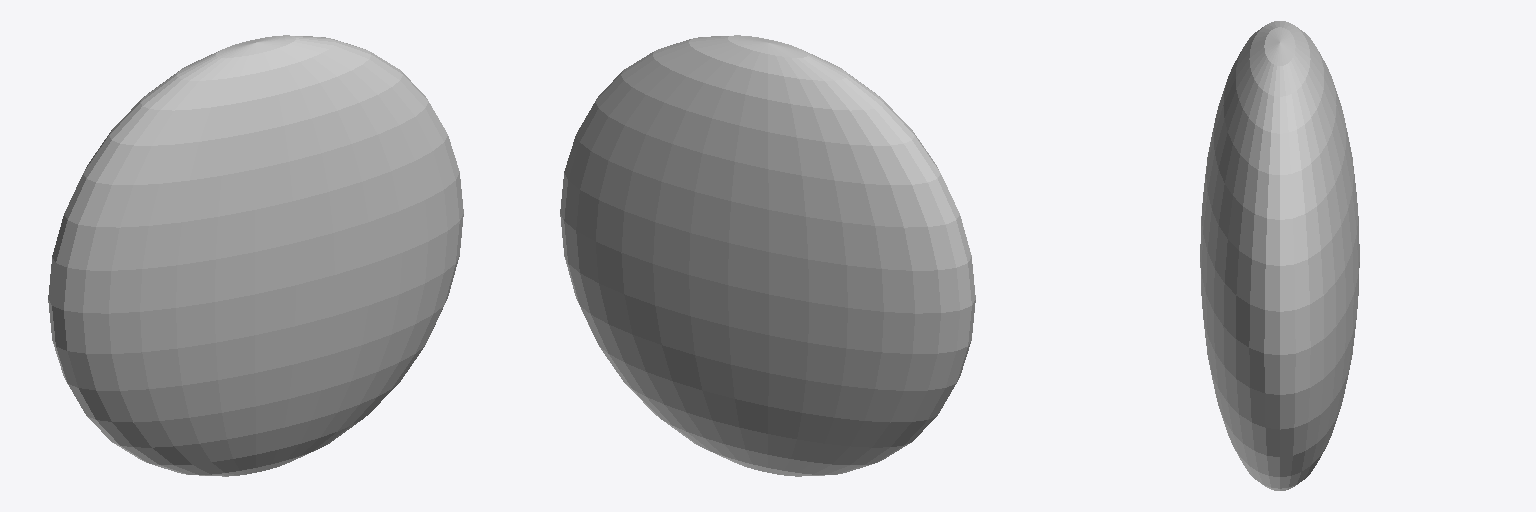
Rendered from prawa.obj.
3 renders of one model, left to right at view 1: azimuth 30°, elevation 25°; view 2: azimuth 150°, elevation 25°; view 3: azimuth 270°, elevation 25°, orthographic.
Visible parts, largest first — view 1: Sphere.003; view 2: Sphere.003; view 3: Sphere.003.
Boxes of the visible parts, <box> form: Sphere.003: <box>48,35,463,476</box>; Sphere.003: <box>560,35,975,476</box>; Sphere.003: <box>1200,21,1359,490</box>.
Bounding box in the file's own units: 2 × 2 × 0.679.